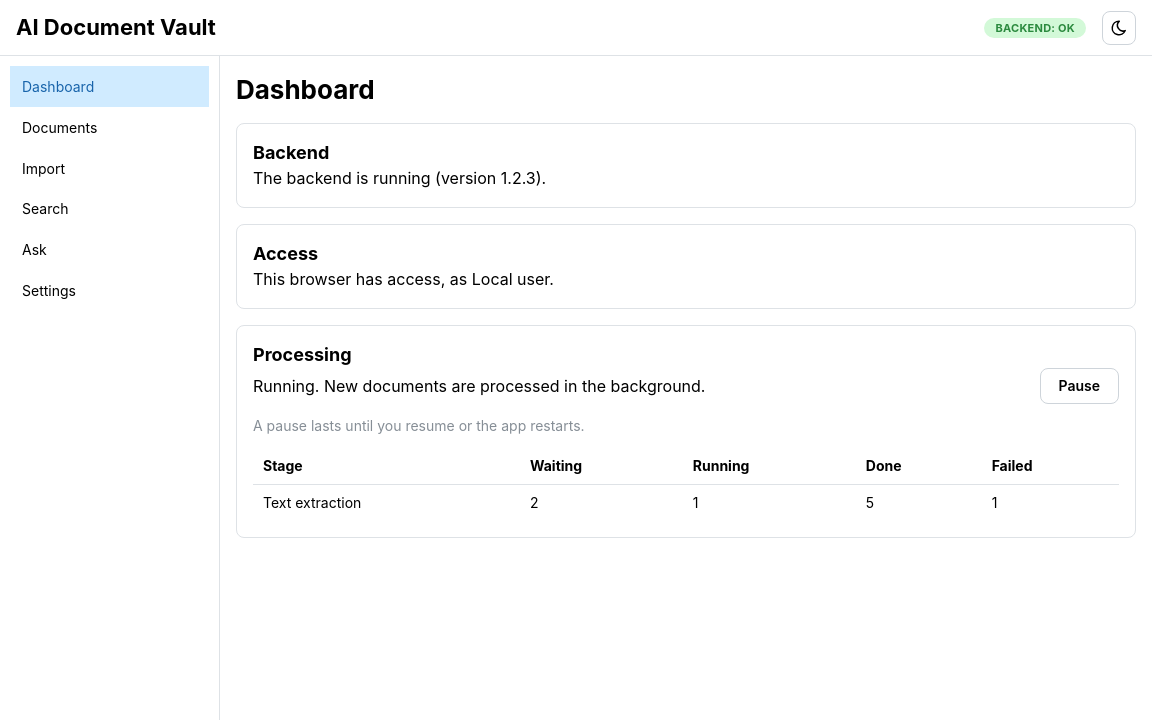
Test: processing on the dashboard › pauses and resumes, showing the state the backend answers with
Step 1. Click the button "Pause" → (1079, 386), box [1040,368,1119,404]
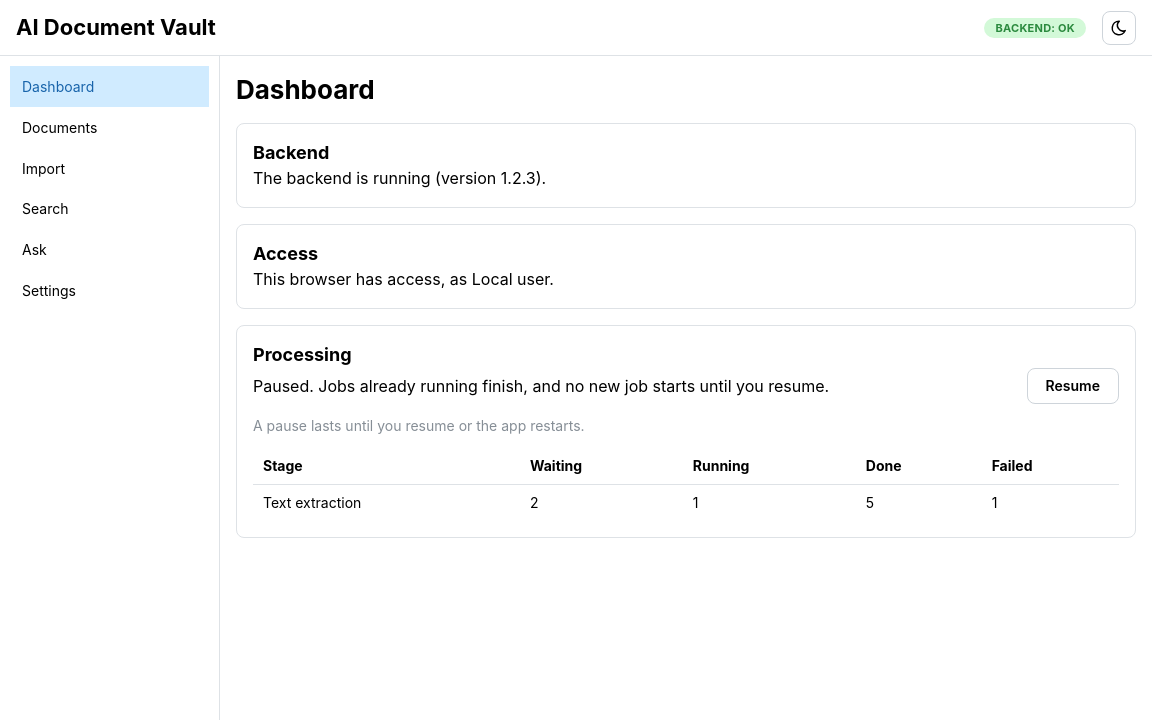
expect the text "Paused. Jobs already running finish, and no new job starts until you resume." is shown: met, box [253,374,829,398]
Step 2. Click the button "Resume" → (1073, 386), box [1027,368,1119,404]
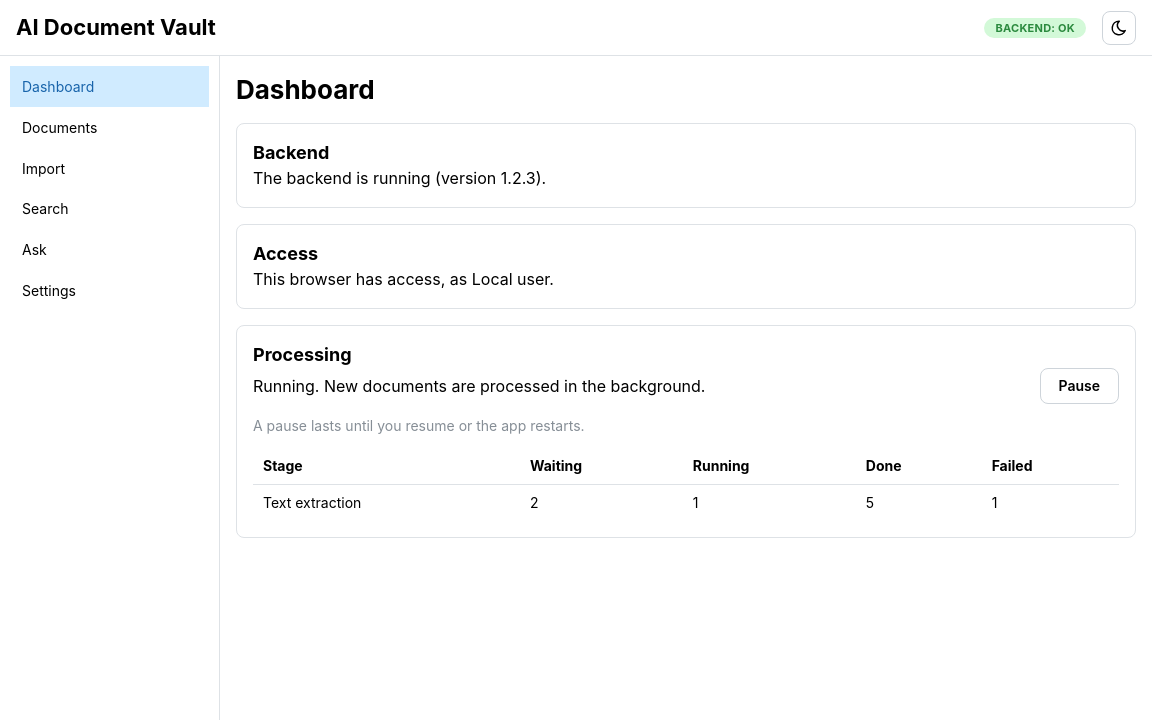
expect the text "Running. New documents are processed in the background." is shown: met, box [253,374,706,398]
